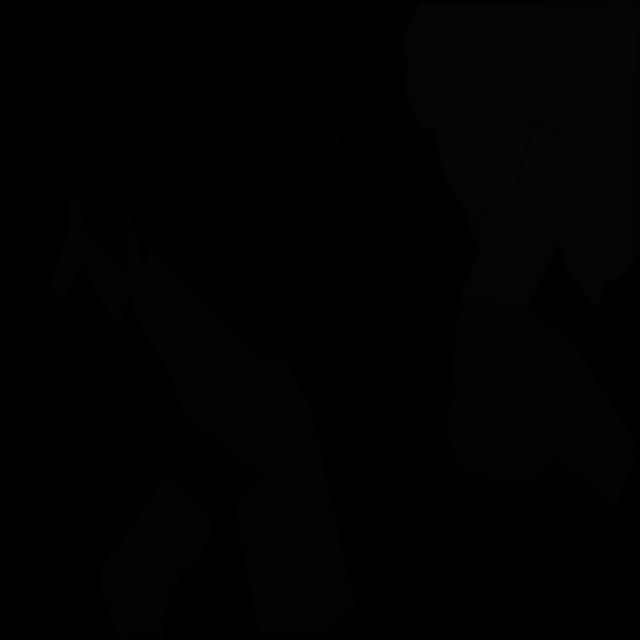cardboard: (448, 296, 640, 509), (236, 354, 356, 639), (97, 477, 211, 639), (47, 192, 131, 330)
rigid_plastic: (257, 71, 347, 177)
soft_plastic: (400, 1, 640, 231), (472, 86, 639, 311), (460, 232, 560, 309)
